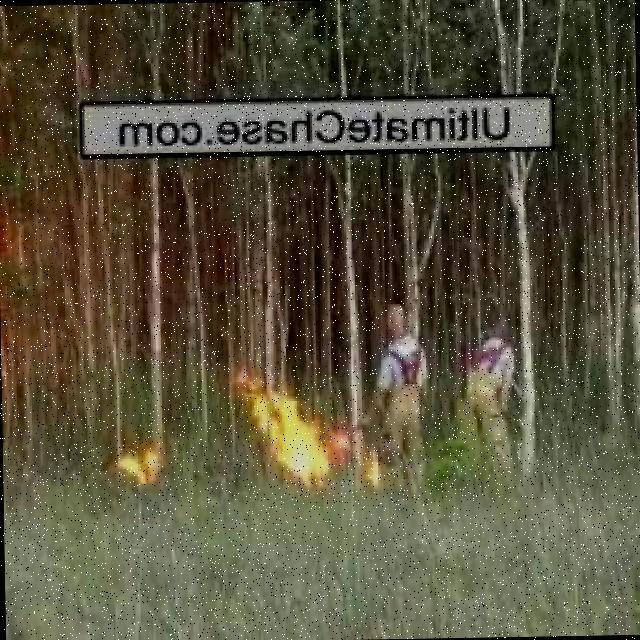Fire: (249, 374, 324, 495), (108, 443, 169, 488), (361, 450, 384, 487), (330, 428, 354, 457)
